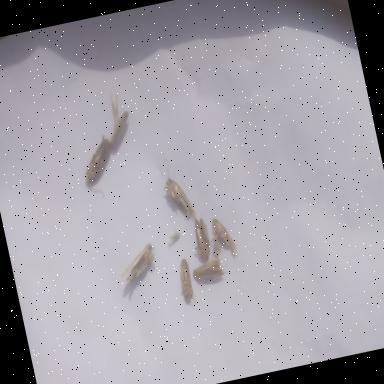pbw: (73, 132, 121, 204), (97, 85, 137, 154), (156, 154, 196, 222), (112, 242, 159, 288), (207, 214, 239, 262), (186, 214, 214, 264), (172, 255, 198, 307), (188, 255, 226, 290)
